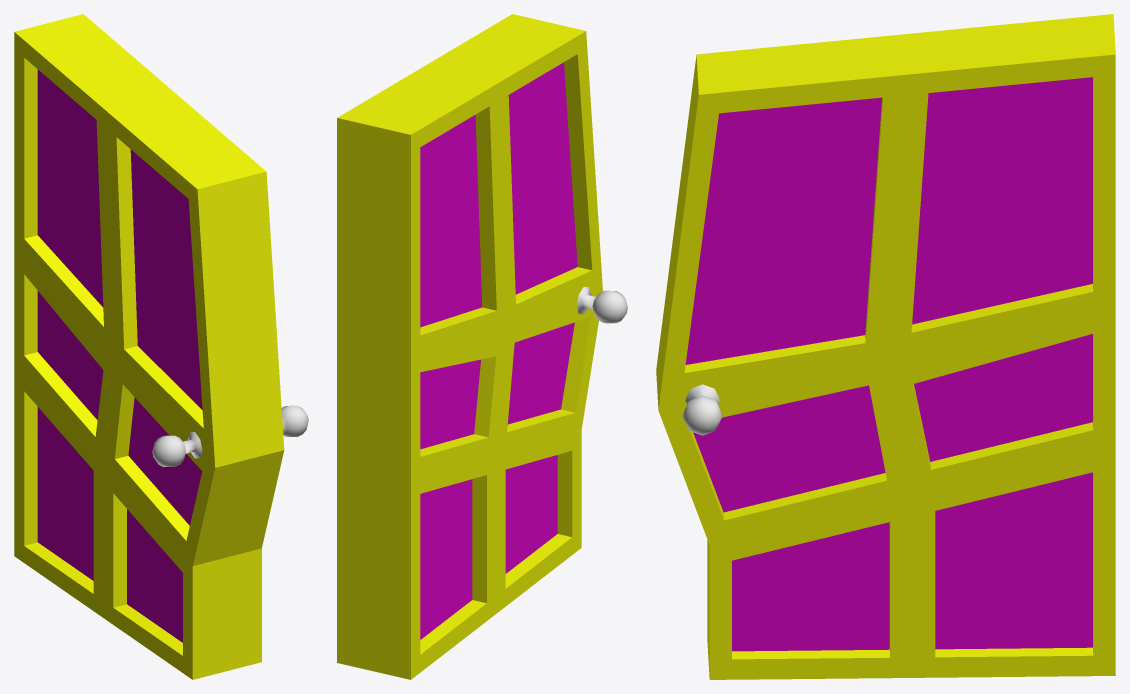
File: SM_Door_Test.fbx
3 renders of one model, left to right at view 1: azimuth 30°, elevation 25°; view 2: azimuth 150°, elevation 25°; view 3: azimuth 270°, elevation 25°, orthographic. The views are drawn at different scales.
Visible parts, largest first — view 1: SM_Porte; view 2: SM_Porte; view 3: SM_Porte.
Boxes of the visible parts, x1,y1,x2,y2 form: SM_Porte: (14, 14, 308, 679); SM_Porte: (337, 14, 627, 679); SM_Porte: (656, 14, 1115, 679).
Size of the model in its own units: 102 by 338 by 226.
